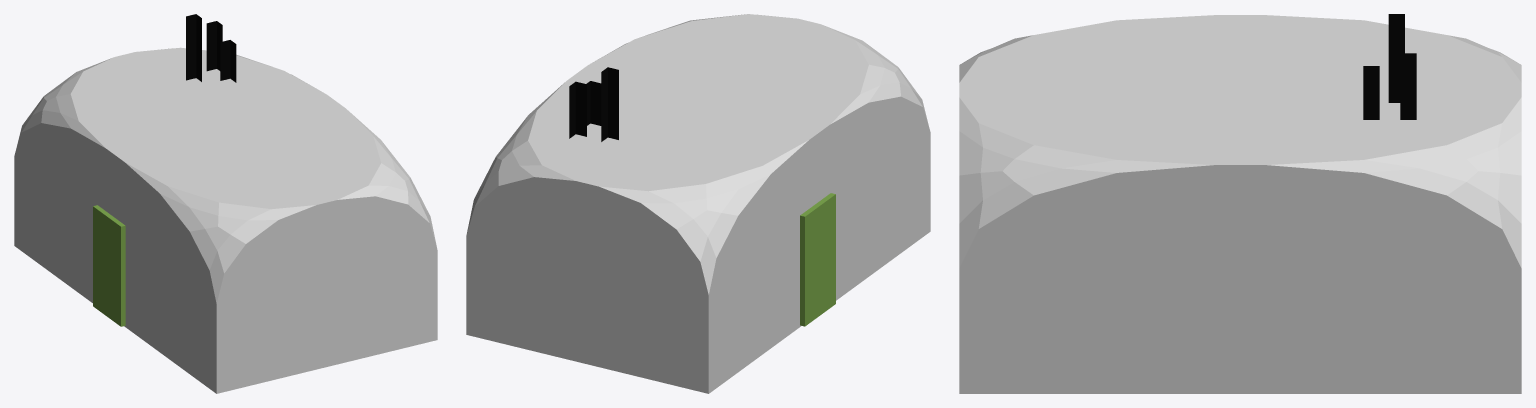
Rendered from beeFabric.fbx.
The picture shows the model from 3 angles, left to right: view 1: azimuth 30°, elevation 25°; view 2: azimuth 150°, elevation 25°; view 3: azimuth 270°, elevation 25°; orthographic projection. The views are drawn at different scales.
Parts seen in each view (by area): view 1: Cube.001; view 2: Cube.001; view 3: Cube.001.
Part boxes in pixels (bbox=[...]): Cube.001: bbox=[14, 14, 437, 393]; Cube.001: bbox=[466, 14, 930, 393]; Cube.001: bbox=[959, 14, 1521, 393].
Bounding box in the file's own units: 343 × 333 × 533.
